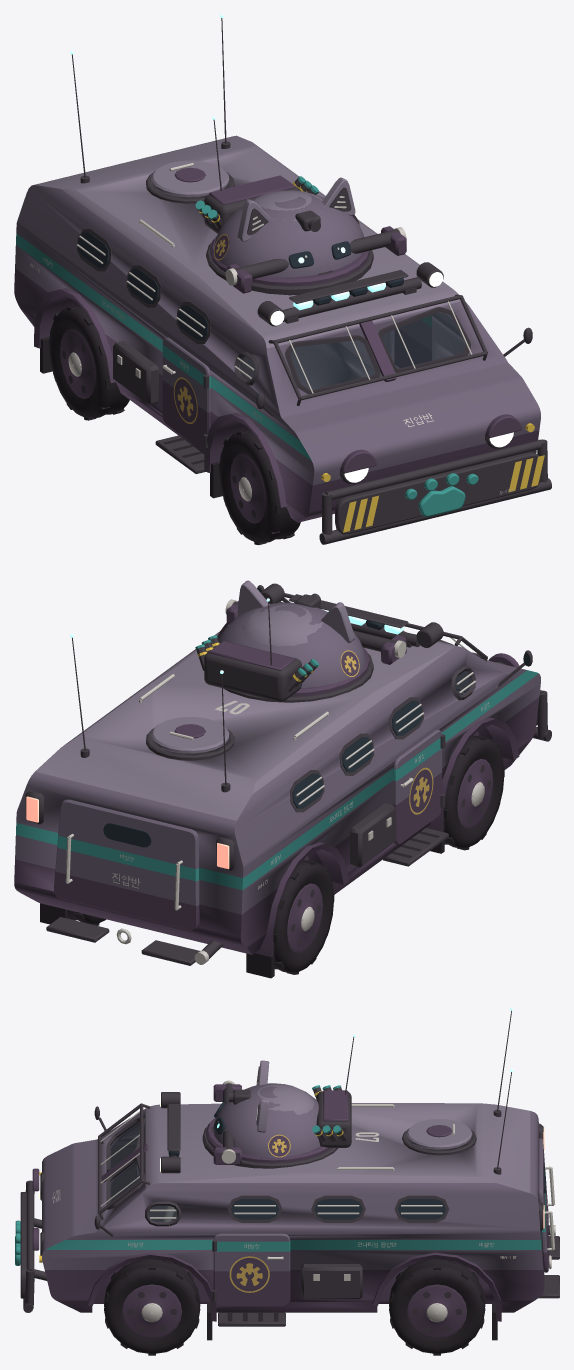
Rendered from monatium_riot_apc.glb.
The picture shows the model from 3 angles, top to bottom: view 1: azimuth 30°, elevation 25°; view 2: azimuth 150°, elevation 25°; view 3: azimuth 270°, elevation 25°; orthographic projection. The views are drawn at different scales.
Parts seen in each view (by area): view 1: body_hull, body_gear, turret_hull, body_glass, body_hull_d, wheel_FR, wheel_RR, door_commander, turret_hull_d, hatch_roof, turret_gear, body_lens (+10 smaller); view 2: body_hull, hatch_rear, body_gear, wheel_RR, wheel_FR, turret_hull, turret_gear, body_hull_d, turret_hull_l, door_commander, hatch_roof, body_lens (+6 smaller); view 3: body_hull, body_gear, wheel_FL, wheel_RL, door_driver, turret_hull, body_hull_d, body_lens, body_steel, body_glass, turret_gear, hatch_roof (+7 smaller).
Boxes of the visible parts, left/top/right/bottom form: body_hull: left=14, top=135, right=540, bottom=522; body_gear: left=72, top=18, right=551, bottom=544; turret_hull: left=213, top=194, right=364, bottom=277; body_glass: left=238, top=312, right=465, bottom=389; body_hull_d: left=34, top=288, right=521, bottom=507; wheel_FR: left=219, top=430, right=300, bottom=544; wheel_RR: left=49, top=305, right=129, bottom=420; door_commander: left=162, top=337, right=210, bottom=451; turret_hull_d: left=209, top=175, right=369, bottom=286; hatch_roof: left=151, top=160, right=229, bottom=197; turret_gear: left=197, top=119, right=351, bottom=274; body_lens: left=78, top=232, right=208, bottom=340; body_hull: left=14, top=625, right=540, bottom=954; hatch_rear: left=54, top=799, right=199, bottom=930; body_gear: left=25, top=583, right=551, bottom=965; wheel_RR: left=273, top=860, right=334, bottom=974; wheel_FR: left=443, top=735, right=504, bottom=850; turret_hull: left=218, top=602, right=365, bottom=687; turret_gear: left=196, top=593, right=320, bottom=701; body_hull_d: left=255, top=653, right=519, bottom=957; turret_hull_l: left=237, top=580, right=354, bottom=646; door_commander: left=393, top=729, right=445, bottom=845; hatch_roof: left=151, top=717, right=229, bottom=753; body_lens: left=292, top=700, right=422, bottom=808; body_hull: left=42, top=1103, right=544, bottom=1312; body_gear: left=20, top=1010, right=559, bottom=1326; wheel_FL: left=104, top=1259, right=200, bottom=1355; wheel_RL: left=389, top=1259, right=485, bottom=1355; door_driver: left=212, top=1233, right=290, bottom=1306; turret_hull: left=213, top=1083, right=320, bottom=1157; body_hull_d: left=32, top=1143, right=501, bottom=1321; body_lens: left=231, top=1199, right=445, bottom=1219; body_steel: left=100, top=1104, right=555, bottom=1280; body_glass: left=110, top=1122, right=176, bottom=1221; turret_gear: left=211, top=1037, right=354, bottom=1147; hatch_roof: left=406, top=1119, right=472, bottom=1149.
Bounding box in the file's own units: 2.43 × 2.73 × 4.98.
